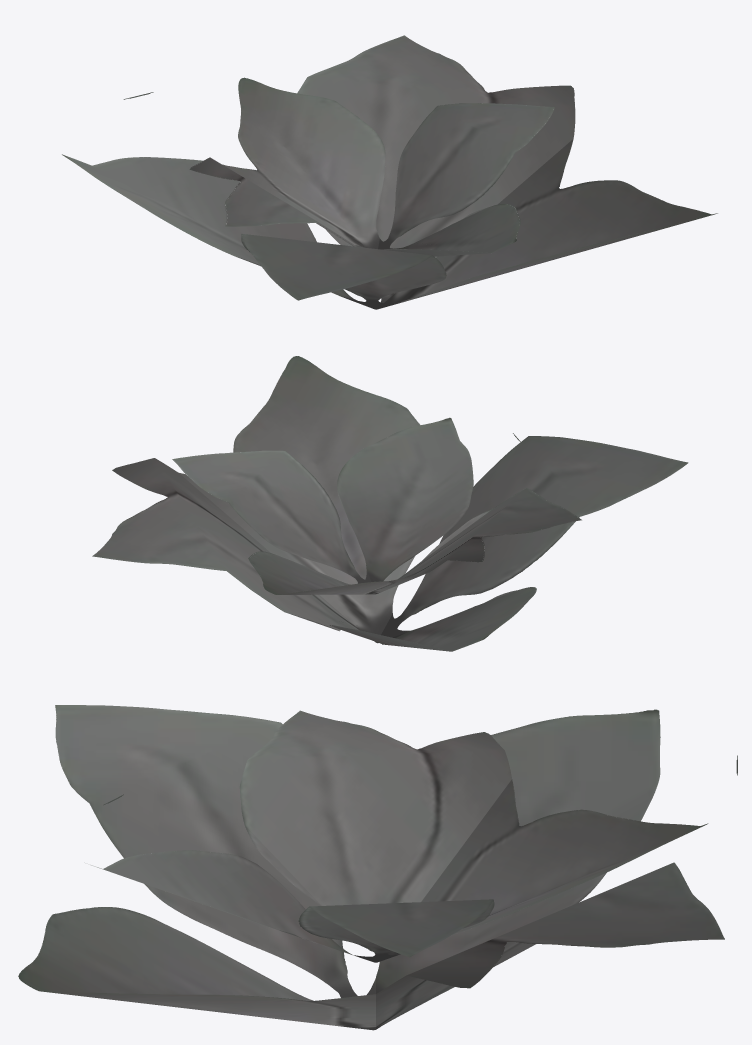
The model's file is Plant_7.1.fbx.
3 views of the same model, one above another, from view 1: azimuth 30°, elevation 25°; view 2: azimuth 150°, elevation 25°; view 3: azimuth 270°, elevation 25° (orthographic). The views are drawn at different scales.
Visible parts, largest first — view 1: Plant_7, Plant_7.001; view 2: Plant_7, Plant_7.001; view 3: Plant_7, Plant_7.001.
Part boxes in pixels (<box>): Plant_7: <box>62,35,717,309</box>; Plant_7.001: <box>189,77,554,256</box>; Plant_7: <box>92,356,688,651</box>; Plant_7.001: <box>172,417,581,594</box>; Plant_7: <box>18,705,737,1030</box>; Plant_7.001: <box>91,710,708,962</box>.
Size of the model in its own units: 100 by 30.62 by 100.
